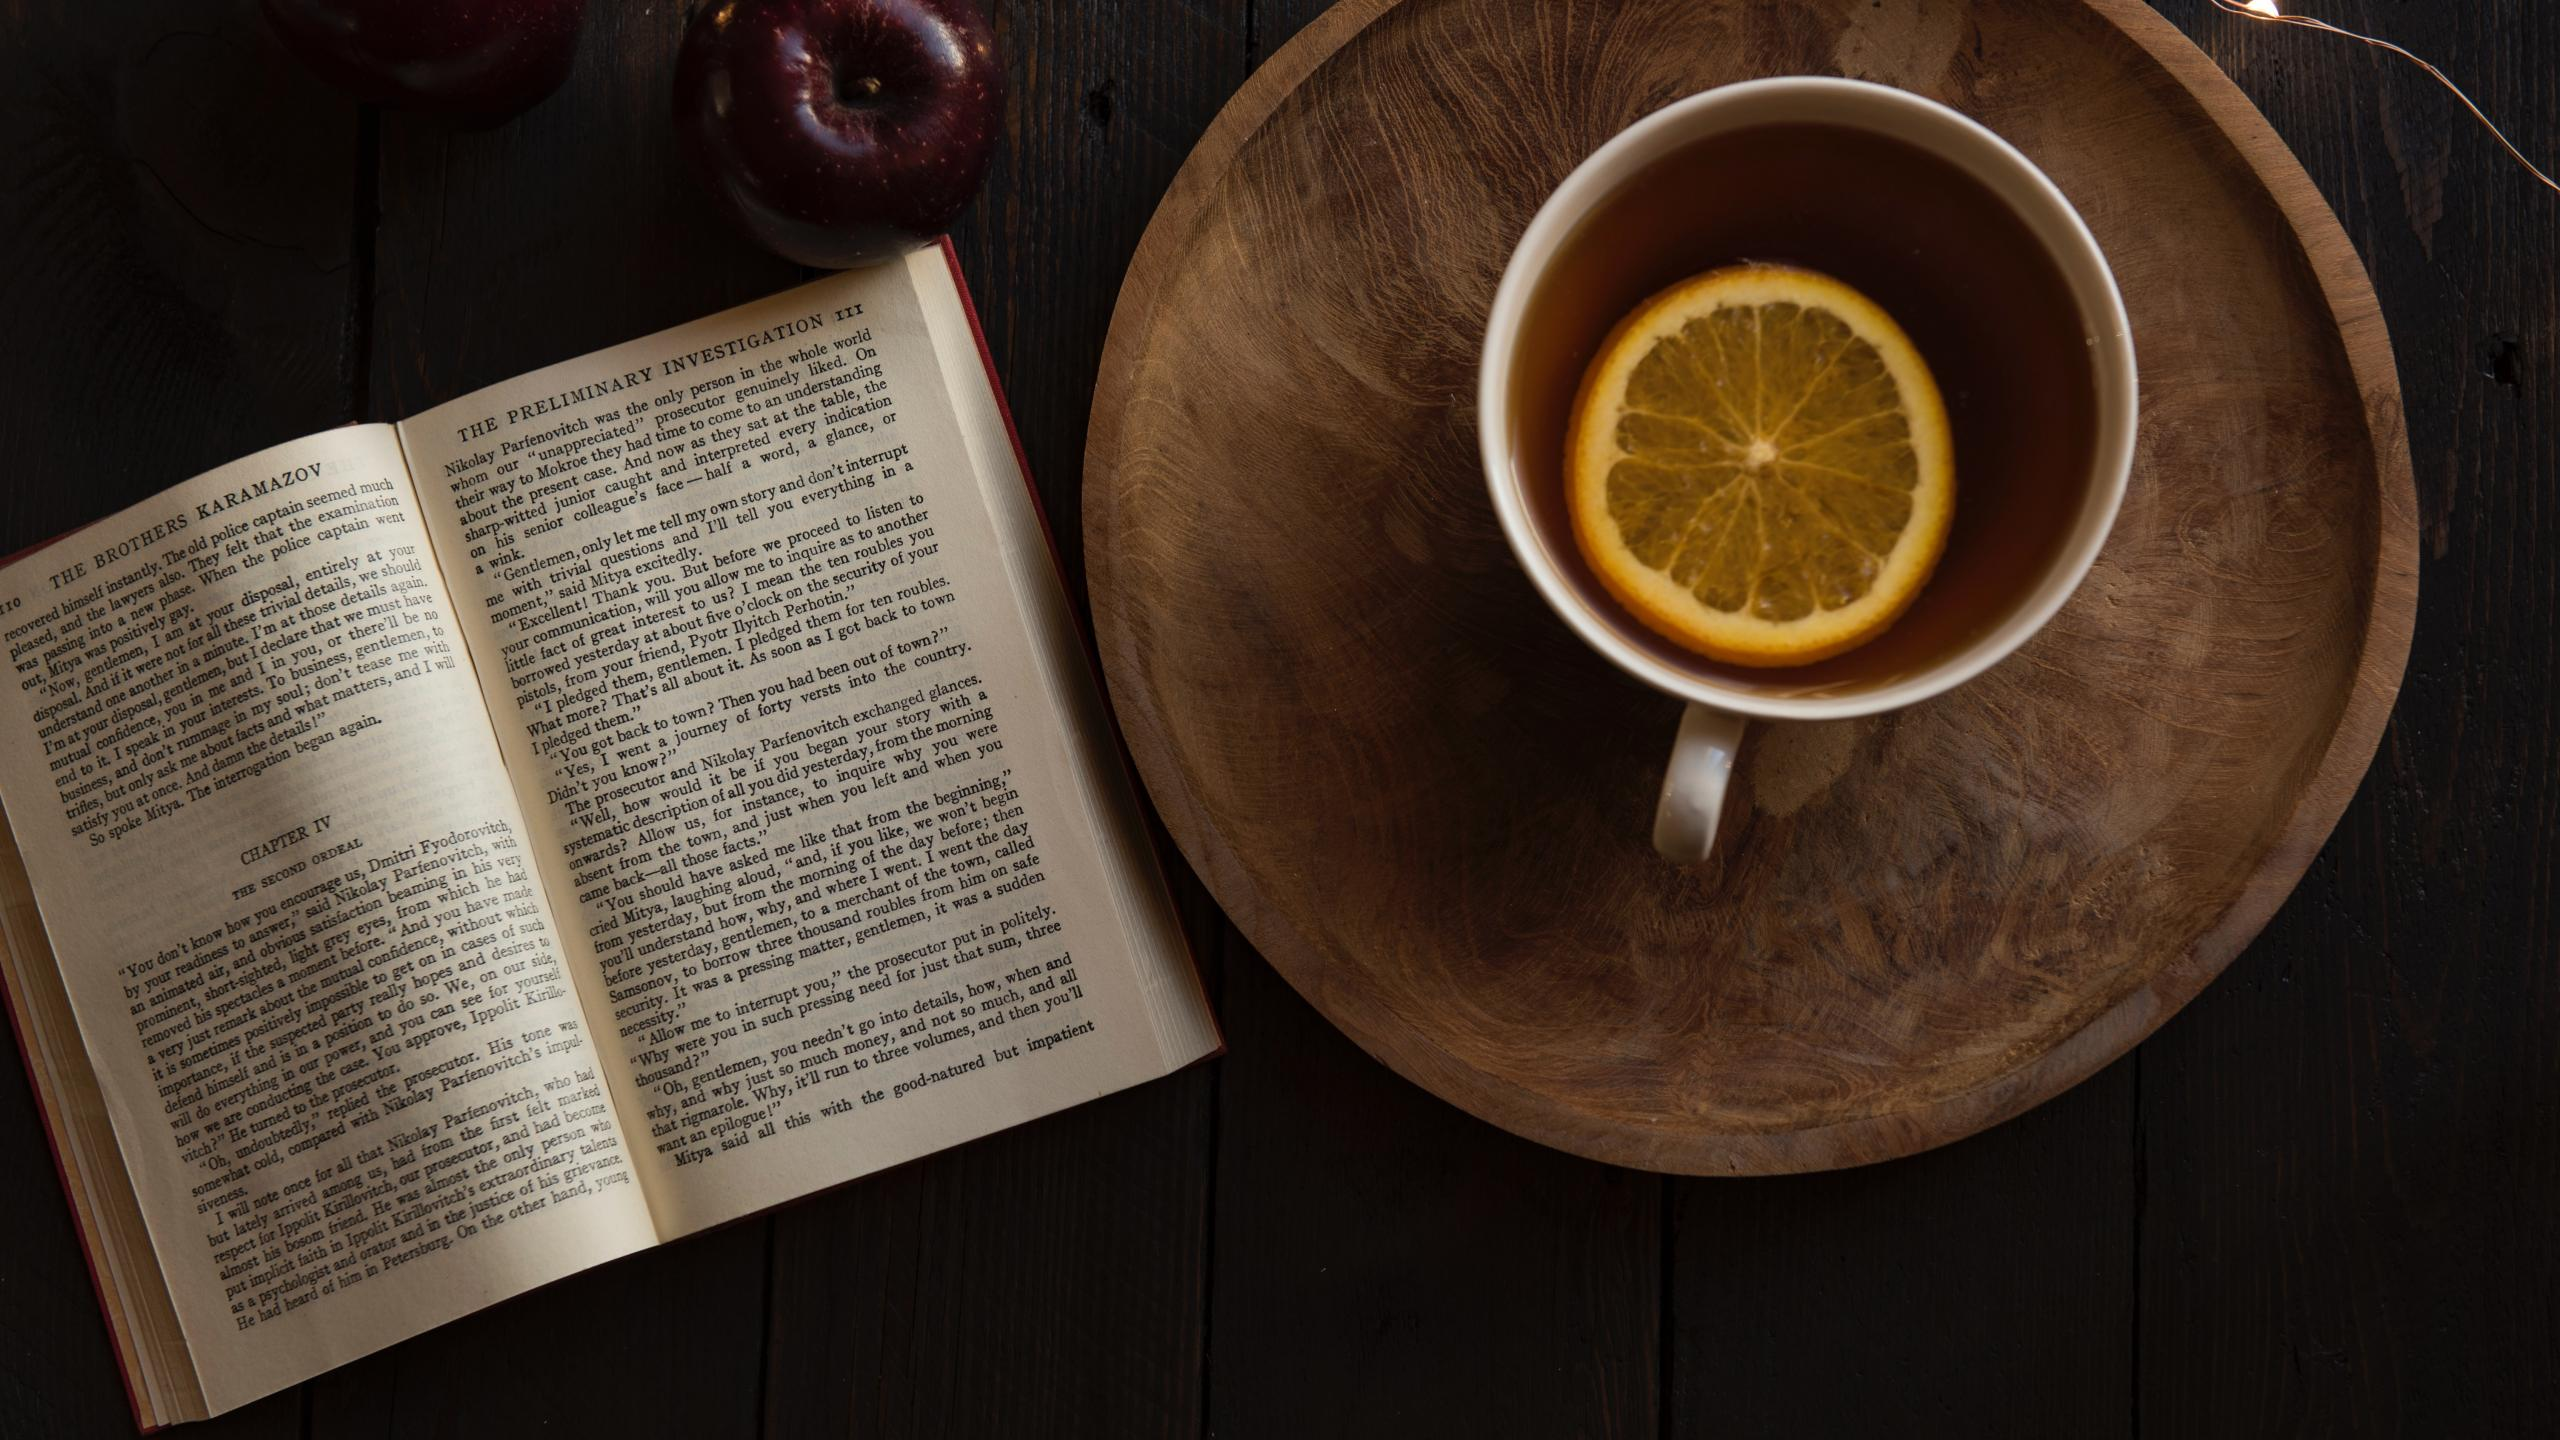book: (9, 227, 1252, 1426)
